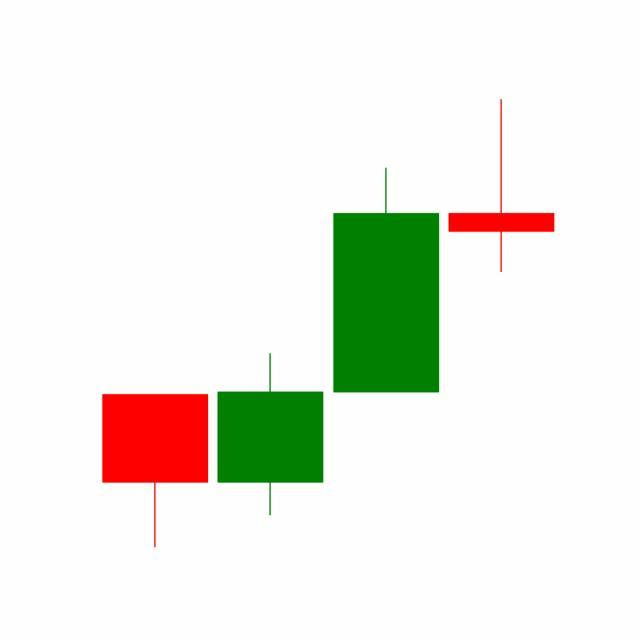Spinning Top: (444, 98, 560, 276)
